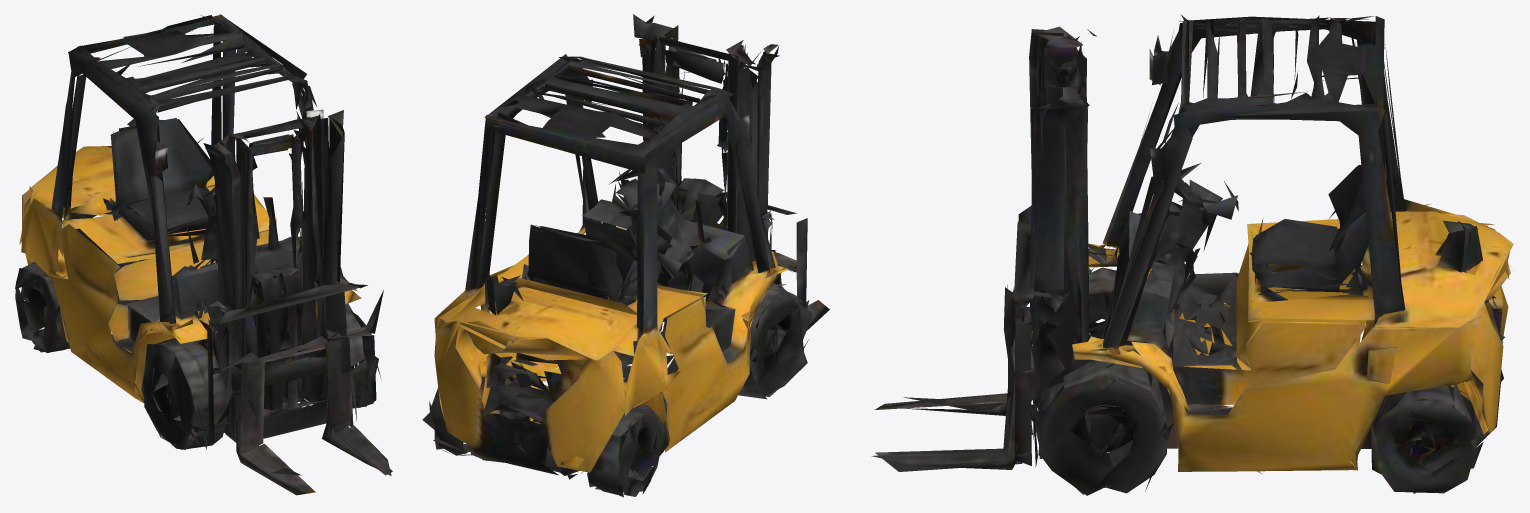
File: hafen_gabelstapler.glb
3 views of the same model, side by side, from view 1: azimuth 30°, elevation 25°; view 2: azimuth 150°, elevation 25°; view 3: azimuth 270°, elevation 25° (orthographic). The views are drawn at different scales.
Visible parts, largest first — view 1: Prop; view 2: Prop; view 3: Prop.
Boxes of the visible parts, x1=… form: Prop: x1=15, y1=14, x2=392, y2=495; Prop: x1=422, y1=14, x2=829, y2=497; Prop: x1=871, y1=15, x2=1513, y2=495.
Size of the model in its own units: 0.6954 by 1.04 by 1.55.
1 material, 1 textured.
